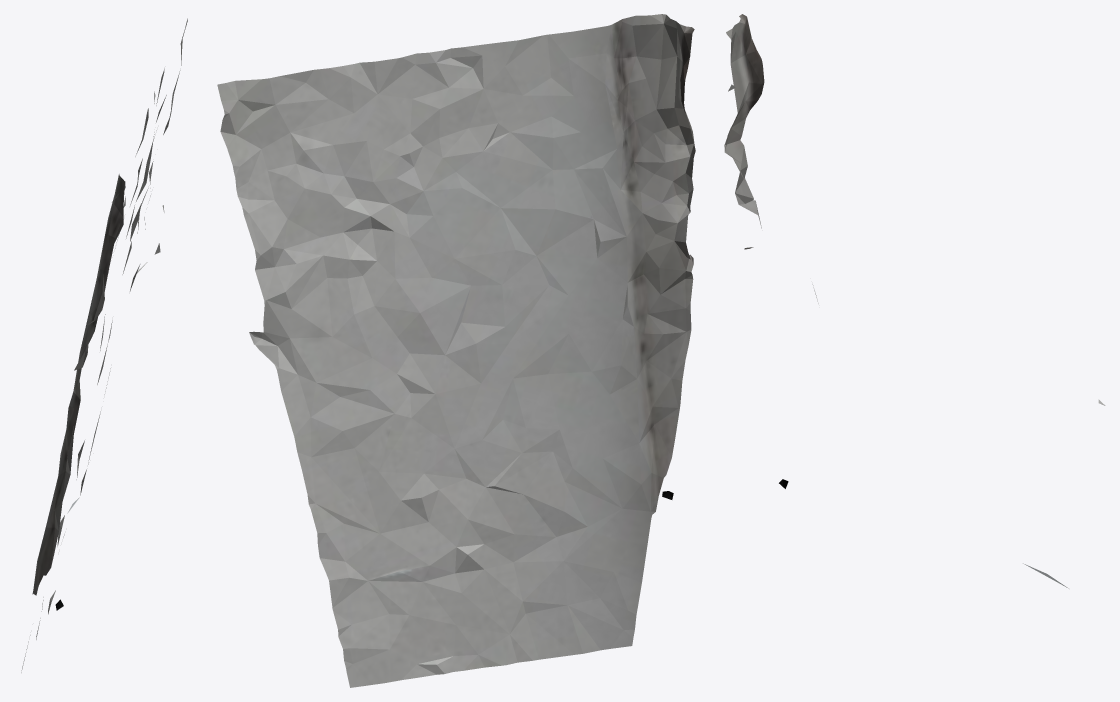
3 renders of one model, left to right at view 1: azimuth 30°, elevation 25°; view 2: azimuth 150°, elevation 25°; view 3: azimuth 270°, elevation 25°, orthographic. The views are drawn at different scales.
Size of the model in its own units: 0.4627 by 0.8374 by 0.4911.
Materials: 2 (2 with a texture image).
